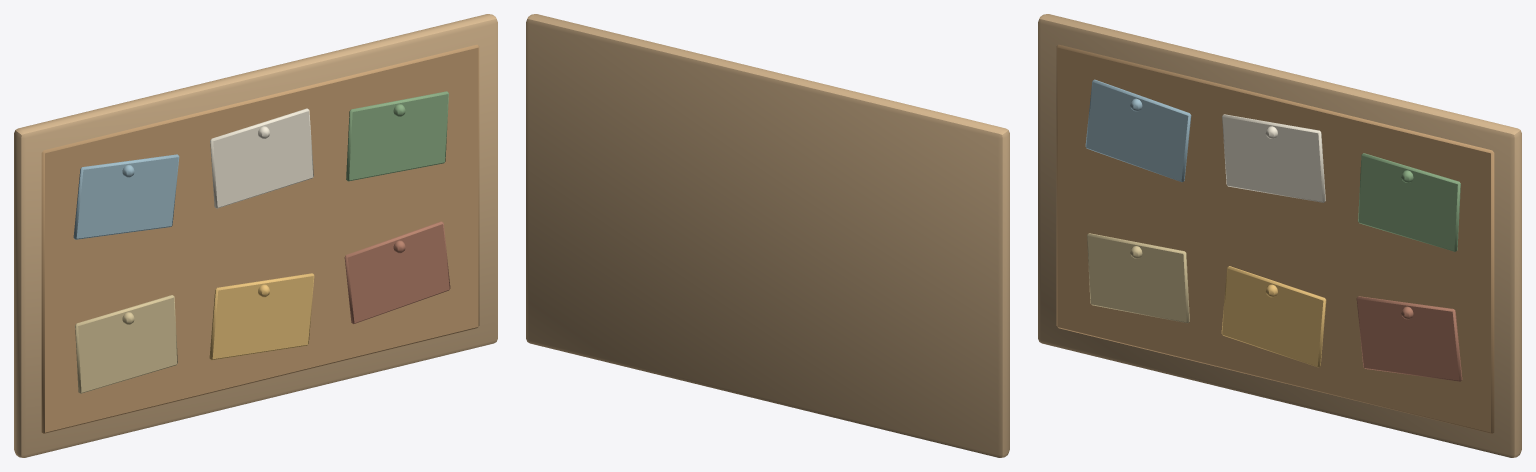
File: postcard_board.glb
3 views of the same model, side by side, from view 1: azimuth 30°, elevation 25°; view 2: azimuth 150°, elevation 25°; view 3: azimuth 330°, elevation 25° (orthographic).
Visible parts, largest first — view 1: cork, wood, card_6, card_1, card_2, card_5, card_4, card_3; view 2: wood; view 3: cork, wood, card_5, card_1, card_2, card_3, card_4, card_6.
Boxes of the visible parts, x1=… form: cork: x1=41, y1=44, x2=479, y2=433; wood: x1=14, y1=14, x2=497, y2=457; card_6: x1=344, y1=221, x2=450, y2=324; card_1: x1=73, y1=154, x2=179, y2=239; card_2: x1=210, y1=108, x2=313, y2=208; card_5: x1=209, y1=273, x2=314, y2=360; card_4: x1=75, y1=295, x2=177, y2=393; card_3: x1=346, y1=91, x2=448, y2=181; wood: x1=526, y1=14, x2=1009, y2=457; cork: x1=1056, y1=44, x2=1494, y2=433; wood: x1=1038, y1=14, x2=1521, y2=457; card_5: x1=1221, y1=266, x2=1326, y2=367; card_1: x1=1085, y1=79, x2=1191, y2=182; card_2: x1=1222, y1=114, x2=1325, y2=202; card_3: x1=1358, y1=153, x2=1460, y2=251; card_4: x1=1087, y1=233, x2=1189, y2=323; card_6: x1=1356, y1=296, x2=1462, y2=381.
Size of the model in its own units: 0.92 by 0.6 by 0.052.
